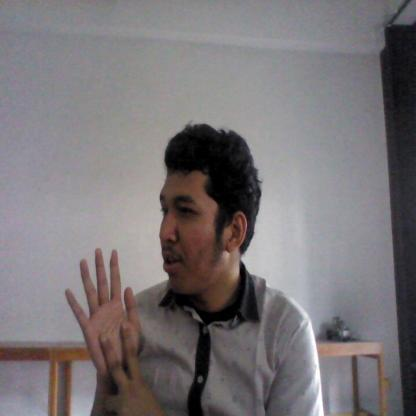N: (61, 246, 152, 410)
